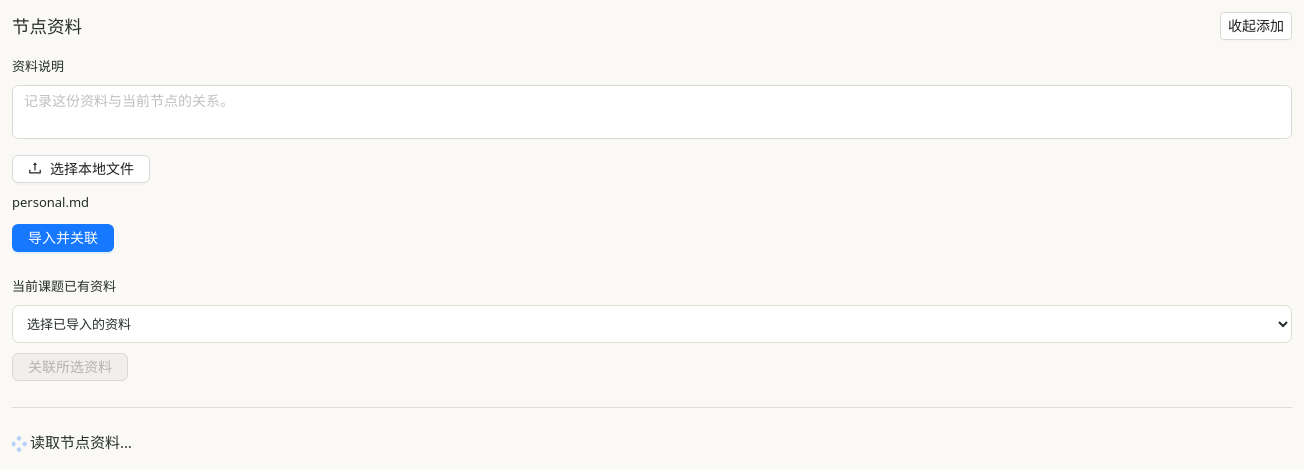
Test: an uploaded file is explicitly attached with the current node and note
Earlier steps of the test are not shown.
Type "核对记录" into the text box named "节点资料说明". click: [652, 112]
box: [12, 85, 1292, 139]
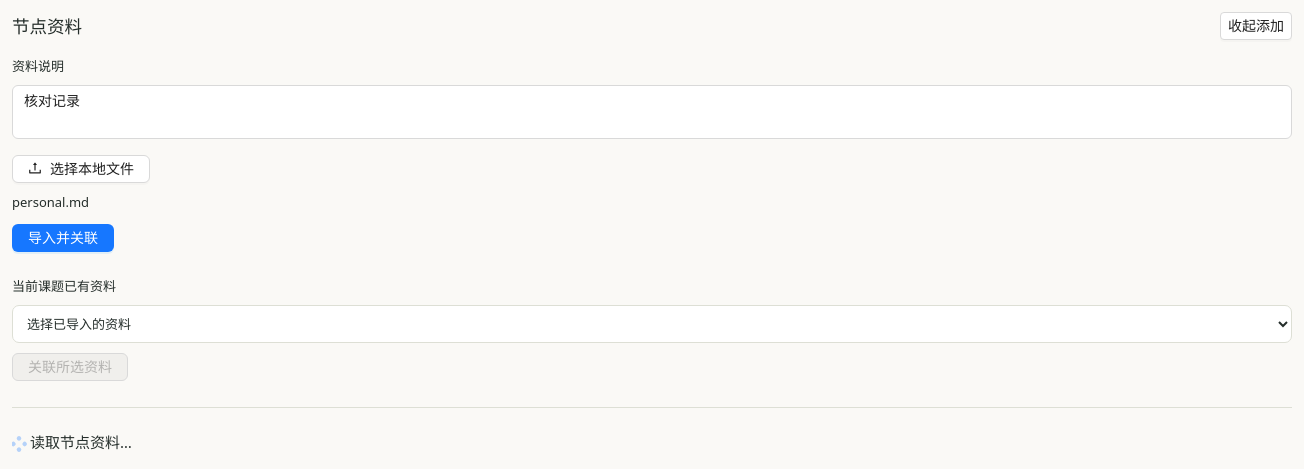
Click the button "导入并关联". click: [63, 238]
box: [12, 224, 114, 252]
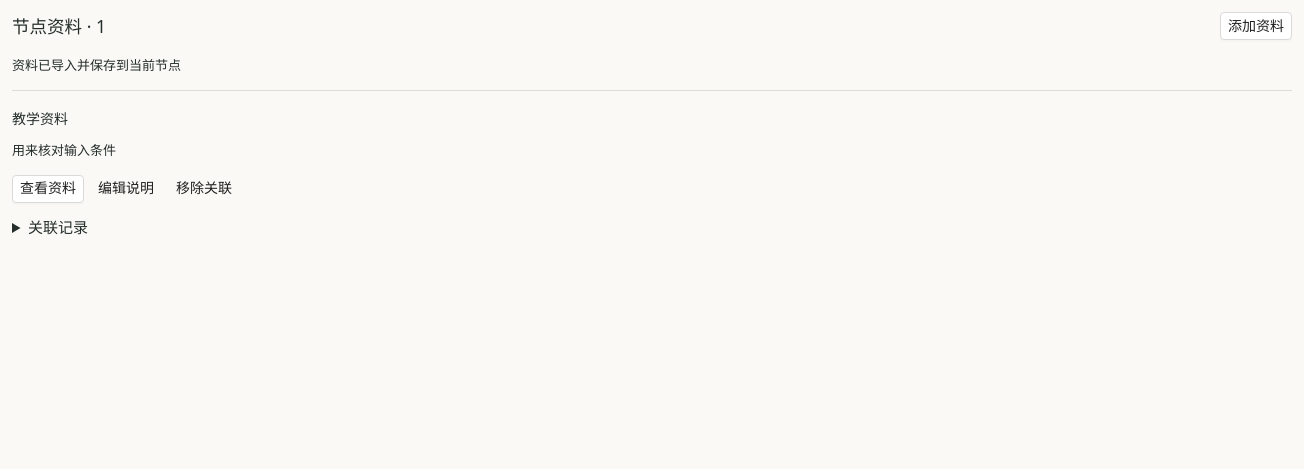
Expected: the text "资料已导入并保存到当前节点" is shown, [12, 56, 181, 74]
